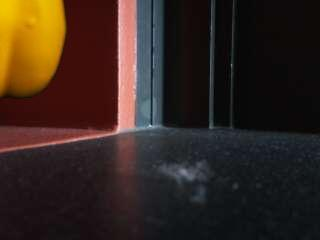Capsicum: (0, 0, 66, 99)
